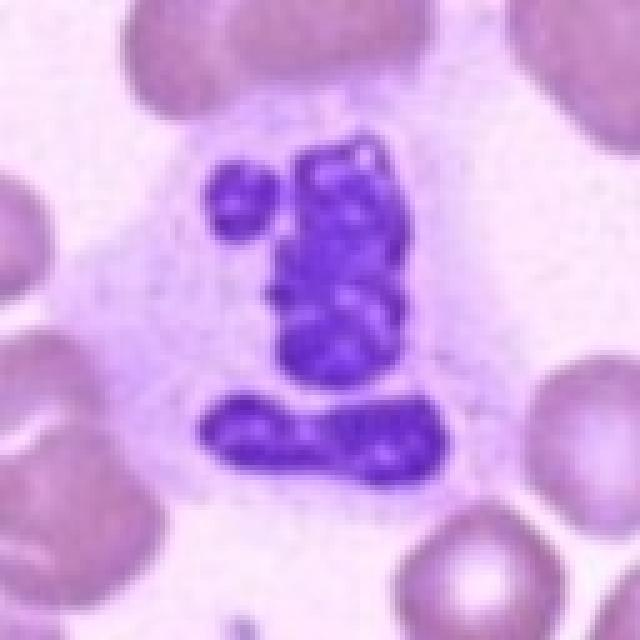neutro: (116, 93, 485, 530)
